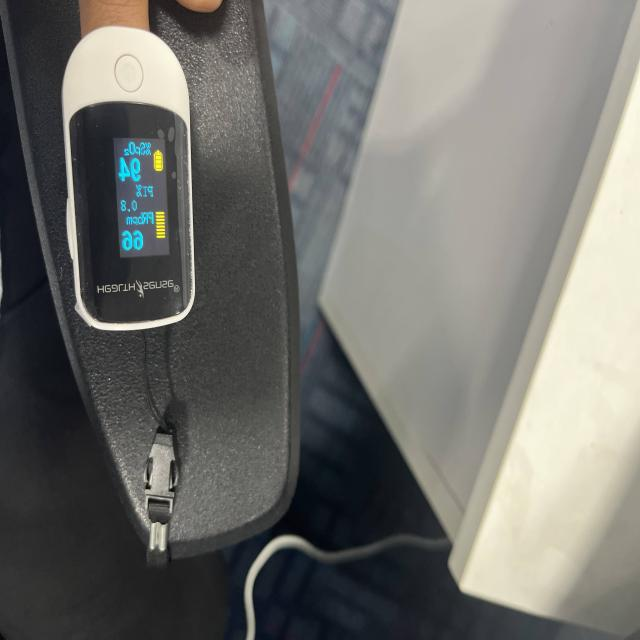spo2: (0, 0, 301, 572)
